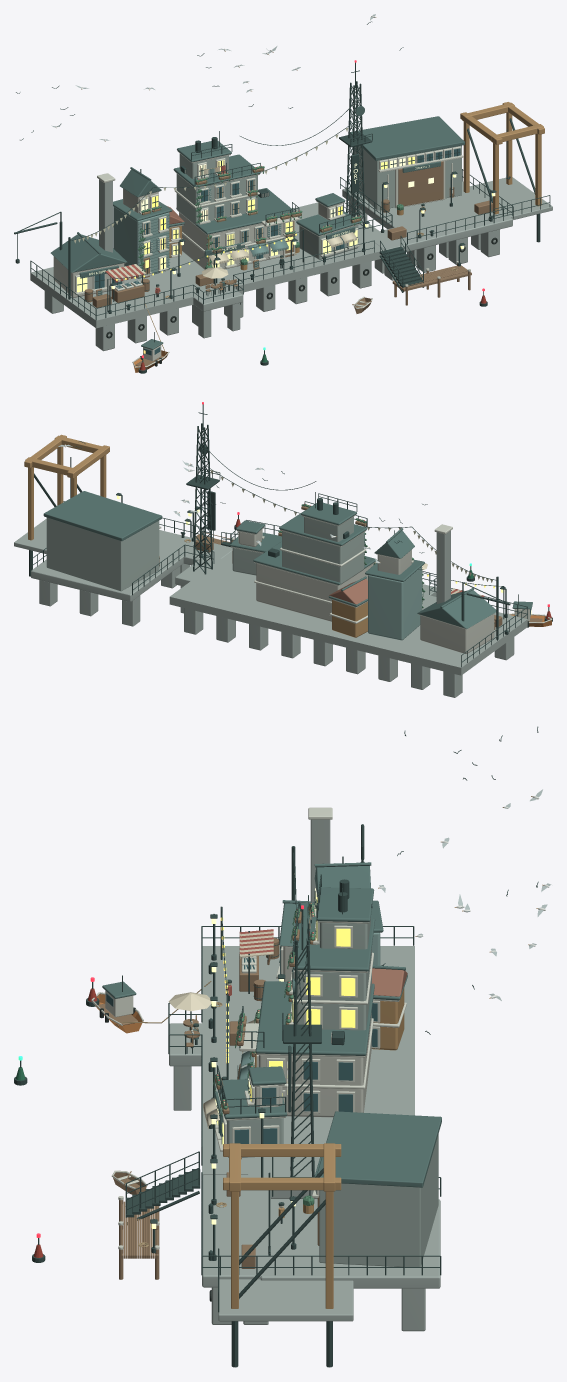
The model's file is harbour_town.glb.
The picture shows the model from 3 angles, top to bottom: view 1: azimuth 30°, elevation 25°; view 2: azimuth 150°, elevation 25°; view 3: azimuth 270°, elevation 25°; orthographic projection. The views are drawn at different scales.
Parts seen in each view (by area): view 1: Village quay broad irregular block.001, Warehouse roof edge.001, Port warehouse.001, Left narrow harbour townhouse.001, Asymmetric hotel middle setback.001, Main hotel lower block.001, Pitched slate roof.002, Crane service jetty.001, Warehouse hangar door.001, Flat slate rooftop.008, Tall factory chimney.001, Flat slate rooftop.009 (+18 smaller); view 2: Village quay broad irregular block.001, Port warehouse.001, Warehouse roof edge.001, Left narrow harbour townhouse.001, Main hotel lower block.001, Asymmetric hotel middle setback.001, Low pitched-roof fish workshop.001, Pitched slate roof.002, Small rear brick machine house.001, Tall factory chimney.001, Small offset hotel rooftop pavilion.001, Flat slate rooftop.010 (+25 smaller); view 3: Village quay broad irregular block.001, Port warehouse.001, Warehouse roof edge.001, Crane service jetty.001, Flat slate rooftop.008, Main hotel lower block.001, Asymmetric hotel middle setback.001, Flat slate rooftop.009, Flat slate rooftop.010, Crane top runner.003, Crane top runner.002, Tall factory chimney.001 (+10 smaller).
Boxes of the visible parts, <box> form: Village quay broad irregular block.001: <box>30,181,512,328</box>; Warehouse roof edge.001: <box>350,116,464,160</box>; Port warehouse.001: <box>352,145,461,210</box>; Left narrow harbour townhouse.001: <box>113,206,169,278</box>; Asymmetric hotel middle setback.001: <box>176,173,257,225</box>; Main hotel lower block.001: <box>179,212,294,269</box>; Pitched slate roof.002: <box>50,234,127,272</box>; Crane service jetty.001: <box>470,177,552,219</box>; Warehouse hangar door.001: <box>398,161,443,206</box>; Flat slate rooftop.008: <box>176,188,295,234</box>; Tall factory chimney.001: <box>99,179,112,252</box>; Flat slate rooftop.009: <box>173,154,260,187</box>; Village quay broad irregular block.001: <box>31,530,527,675</box>; Port warehouse.001: <box>46,517,159,591</box>; Warehouse roof edge.001: <box>43,491,162,541</box>; Left narrow harbour townhouse.001: <box>368,566,421,640</box>; Main hotel lower block.001: <box>256,563,373,621</box>; Asymmetric hotel middle setback.001: <box>282,531,364,584</box>; Low pitched-roof fish workshop.001: <box>420,613,494,653</box>; Pitched slate roof.002: <box>417,590,496,628</box>; Small rear brick machine house.001: <box>332,600,367,637</box>; Tall factory chimney.001: <box>436,530,450,603</box>; Small offset hotel rooftop pavilion.001: <box>304,517,353,541</box>; Flat slate rooftop.010: <box>301,502,356,525</box>; Village quay broad irregular block.001: <box>169,946,440,1288</box>; Port warehouse.001: <box>319,1134,438,1266</box>; Warehouse roof edge.001: <box>317,1111,441,1187</box>; Crane service jetty.001: <box>218,1279,353,1321</box>; Flat slate rooftop.008: <box>255,981,374,1055</box>; Main hotel lower block.001: <box>258,1013,371,1117</box>; Asymmetric hotel middle setback.001: <box>296,948,371,1030</box>; Flat slate rooftop.009: <box>292,916,375,971</box>; Flat slate rooftop.010: <box>316,887,374,922</box>; Crane top runner.003: <box>223,1177,341,1190</box>; Crane top runner.002: <box>223,1144,341,1156</box>; Tall factory chimney.001: <box>310,819,330,902</box>.
Bounding box in the file's own units: 30.81 × 12.22 × 17.97.
